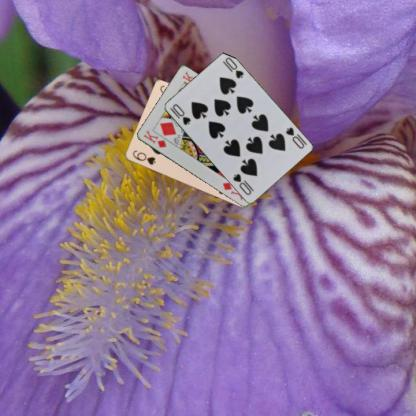10s: (167, 101, 192, 127), (283, 124, 305, 150)
6s: (130, 148, 157, 166)
Kd: (141, 128, 168, 149)
